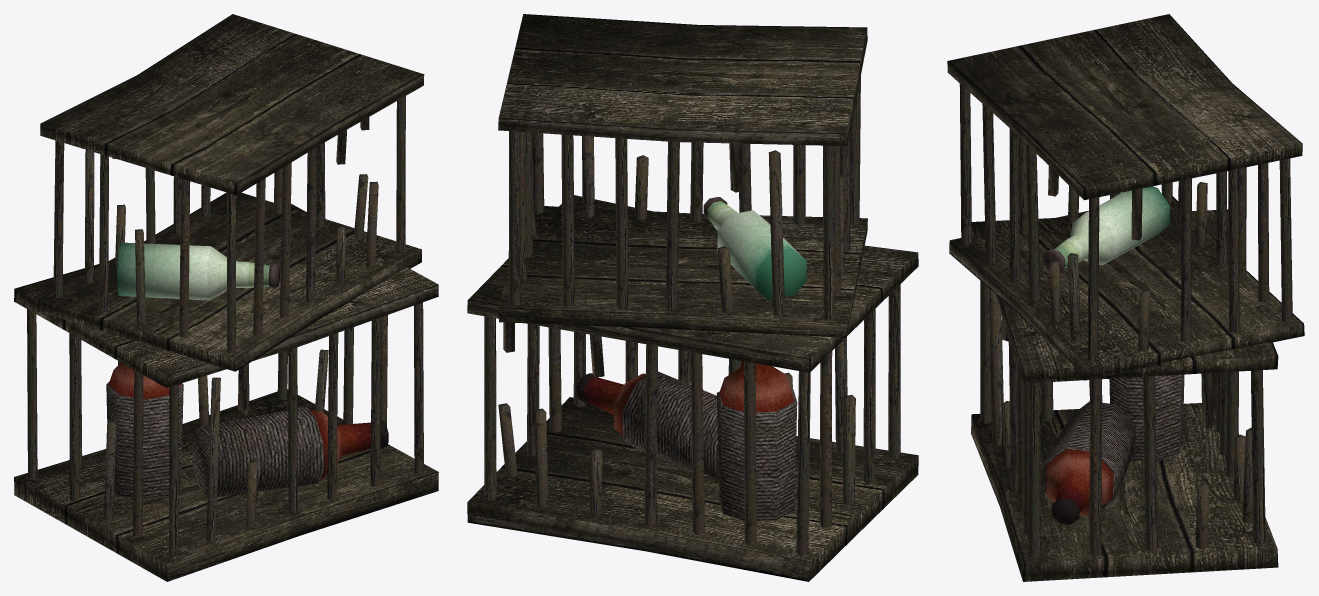
The model's file is KM_VOB_WOODEN_CAGE_03.glb.
3 renders of one model, left to right at view 1: azimuth 30°, elevation 25°; view 2: azimuth 150°, elevation 25°; view 3: azimuth 270°, elevation 25°, orthographic. The views are drawn at different scales.
Parts seen in each view (by area): view 1: Mesh; view 2: Mesh; view 3: Mesh.
Boxes of the visible parts, box(x1,y1,x2,y2) form: Mesh: box(14, 14, 438, 581); Mesh: box(467, 14, 918, 581); Mesh: box(947, 14, 1304, 581).
Bounding box in the file's own units: 0.8787 × 0.9648 × 0.7724.
Materials: 3 (3 with a texture image).
